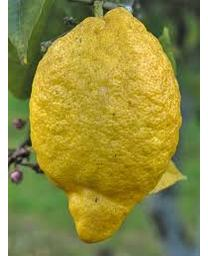lemon: (29, 9, 183, 242)
